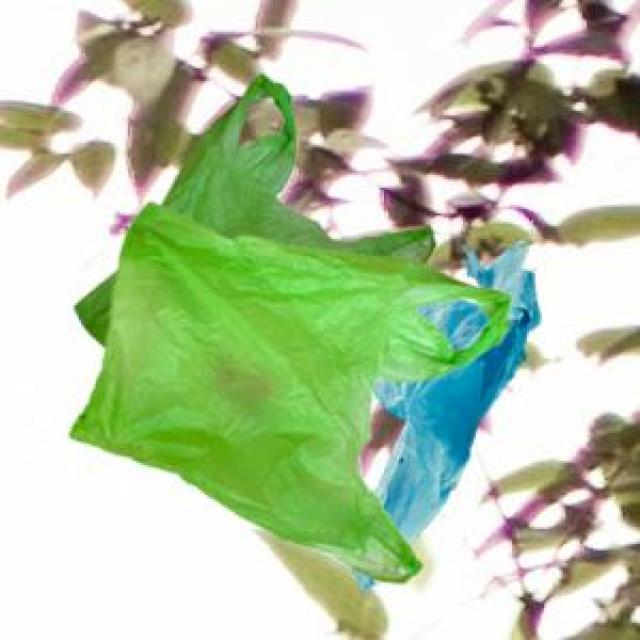plasticcover: (53, 199, 515, 585), (70, 70, 488, 382), (376, 222, 552, 567)
